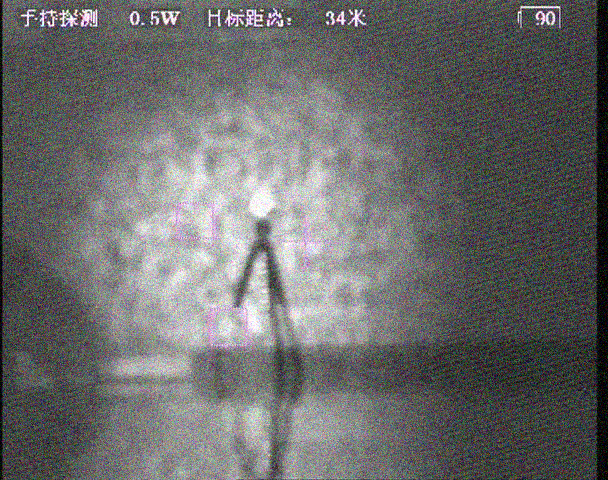my: (248, 191, 274, 217)
